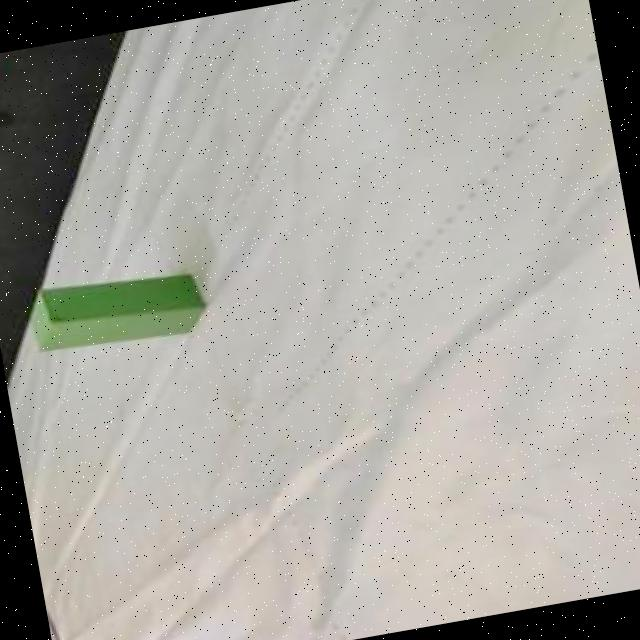greenbox: (20, 259, 213, 362)
